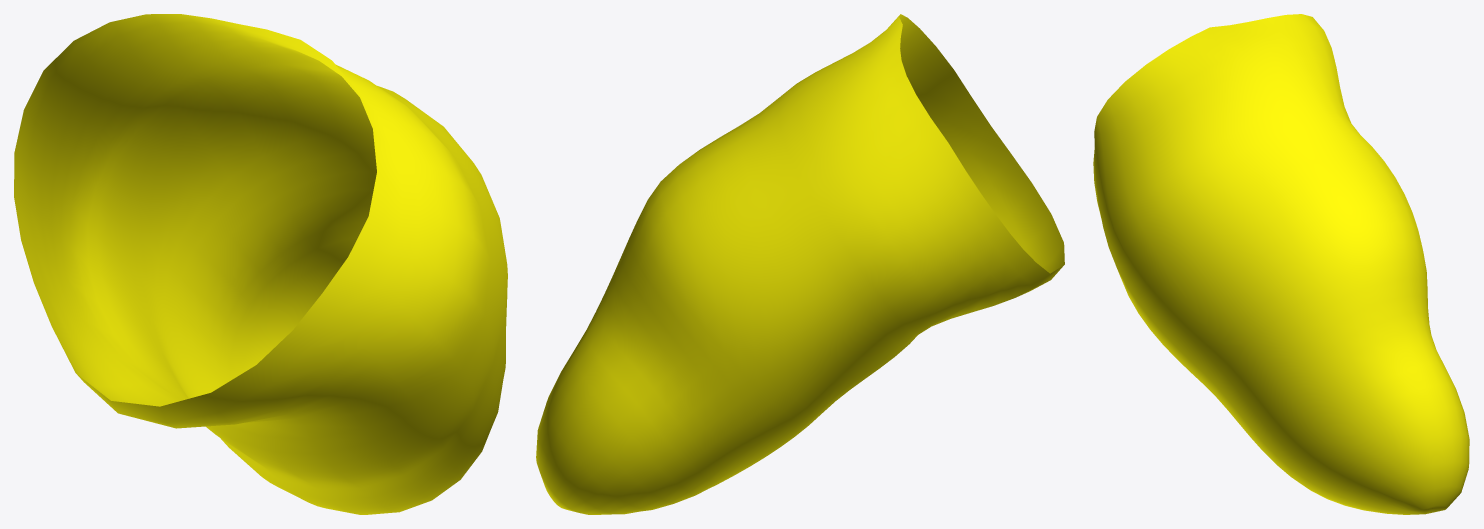
The model's file is heart.gltf.
3 views of the same model, side by side, from view 1: azimuth 30°, elevation 25°; view 2: azimuth 150°, elevation 25°; view 3: azimuth 270°, elevation 25° (orthographic). The views are drawn at different scales.
Parts seen in each view (by area): view 1: Heart_D; view 2: Heart_D; view 3: Heart_D.
Boxes of the visible parts, x1=… form: Heart_D: x1=14, y1=14, x2=507, y2=514; Heart_D: x1=536, y1=14, x2=1064, y2=514; Heart_D: x1=1093, y1=14, x2=1469, y2=514.
Bounding box in the file's own units: 7.11 × 7.77 × 6.58.
